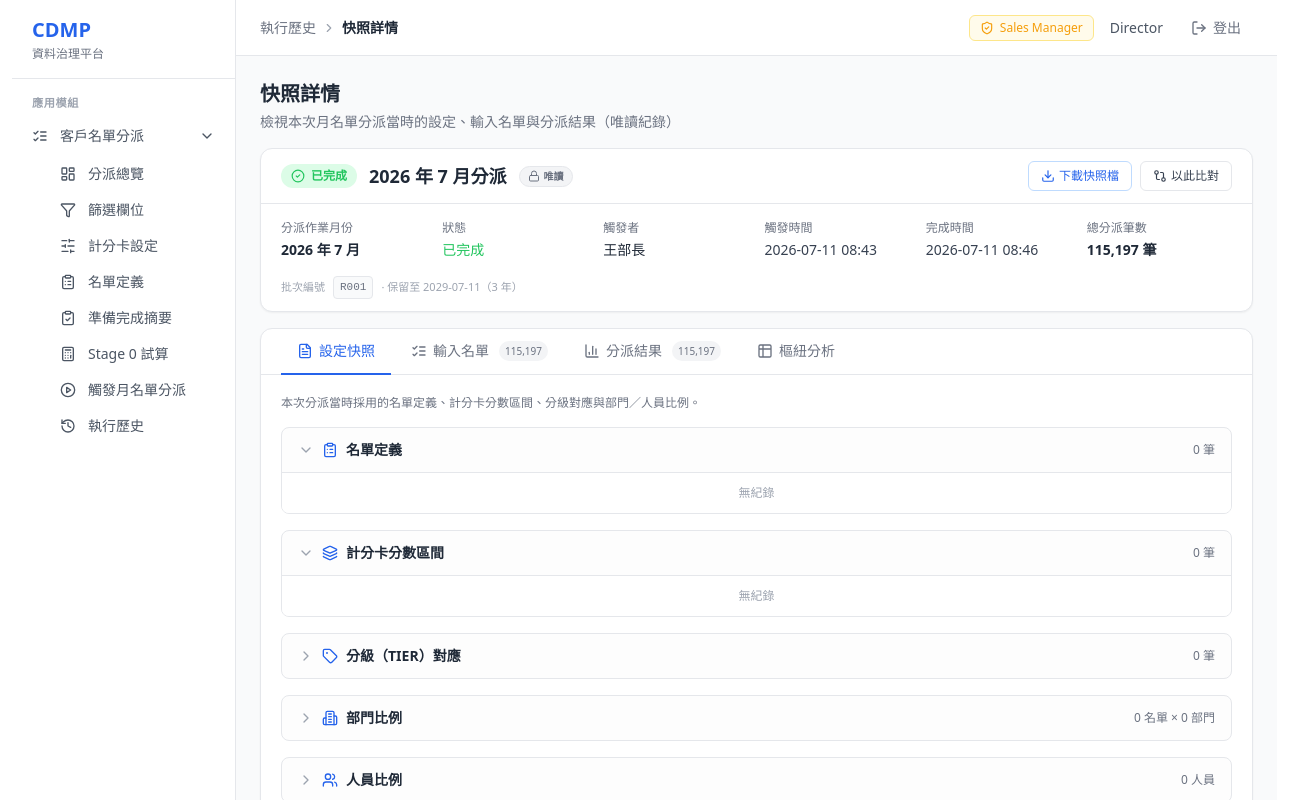
Scenario: SnapshotDetailPage (F066 v1.3) › 點分派結果分頁 → 以分頁端點（getResultPage）呈現 23 欄表格
Click the button with test id "snapshot-tab-result". click: (652, 352)
box: [568, 328, 737, 374]
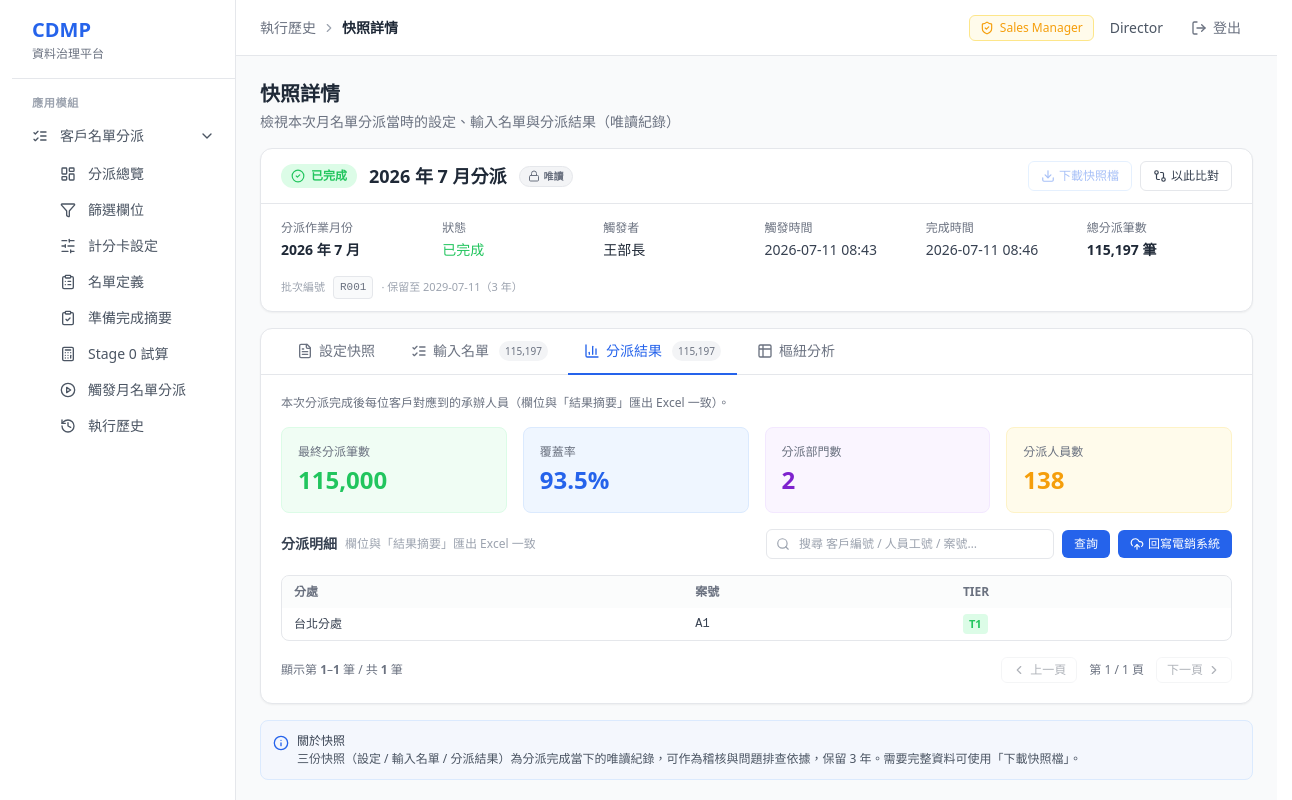
Expected: the element with test id "snapshot-result-table" is shown, [281, 426, 1232, 682]
Expected: the text "台北分處" is shown, [294, 614, 342, 632]
Expected: the text "分派部門數" is shown, [782, 442, 842, 460]
